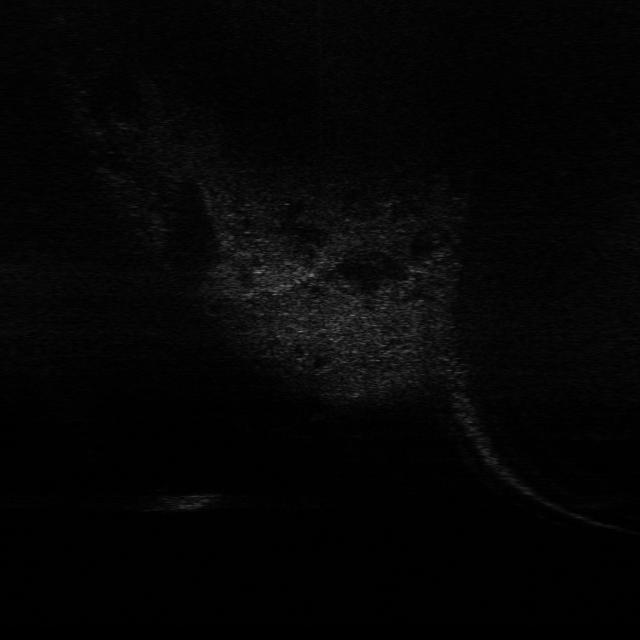cube: (147, 492, 224, 513)
